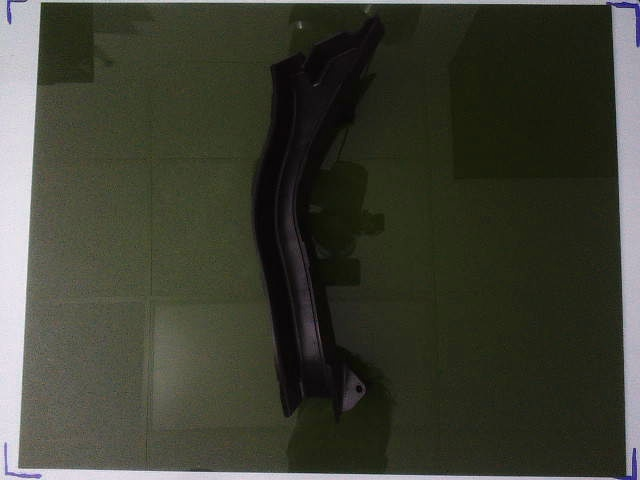887_A-Under: (252, 18, 386, 422)
